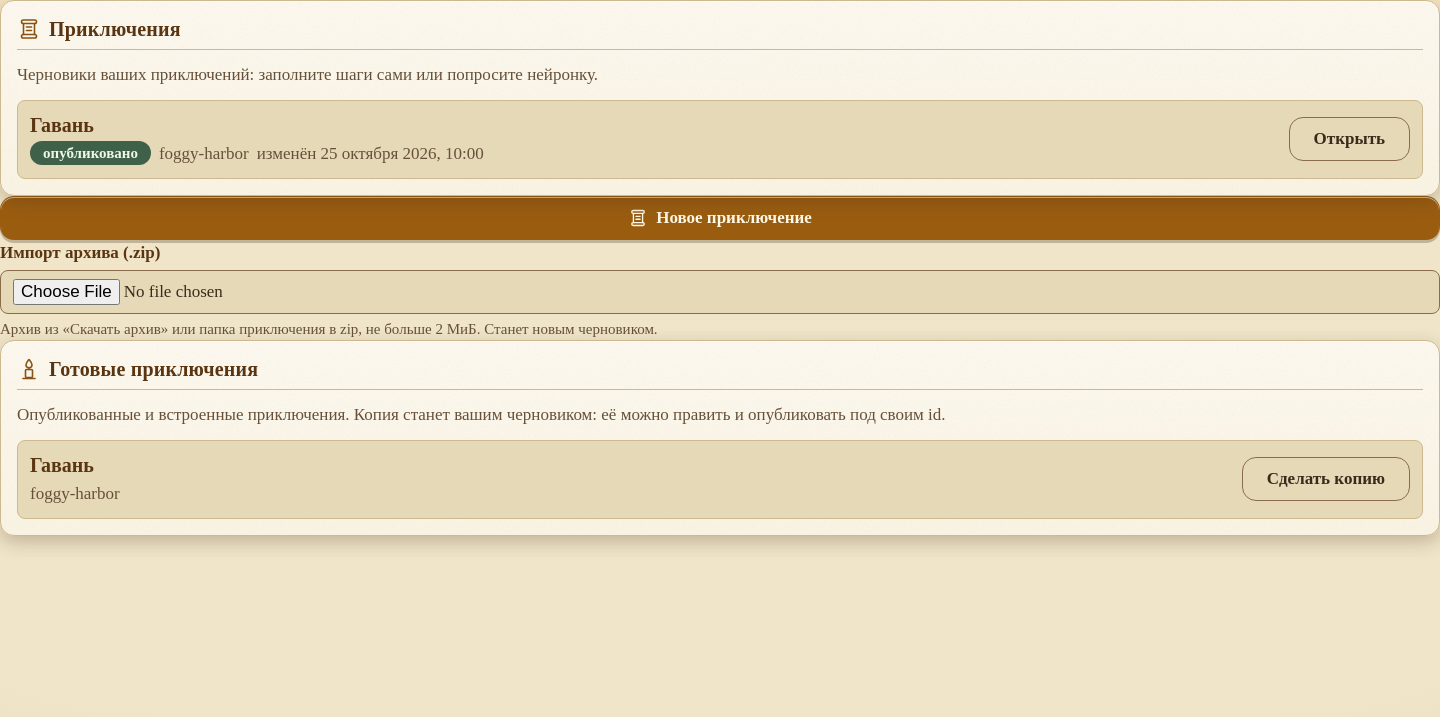
Test case: новый и существующий черновик › удалён черновик опубликованного приключения: в черновиках его нет, а в «Готовых приключениях» приключение осталось
Click the button with aria-label "Открыть: Гавань" at (1349, 139), box [1289, 117, 1410, 161]
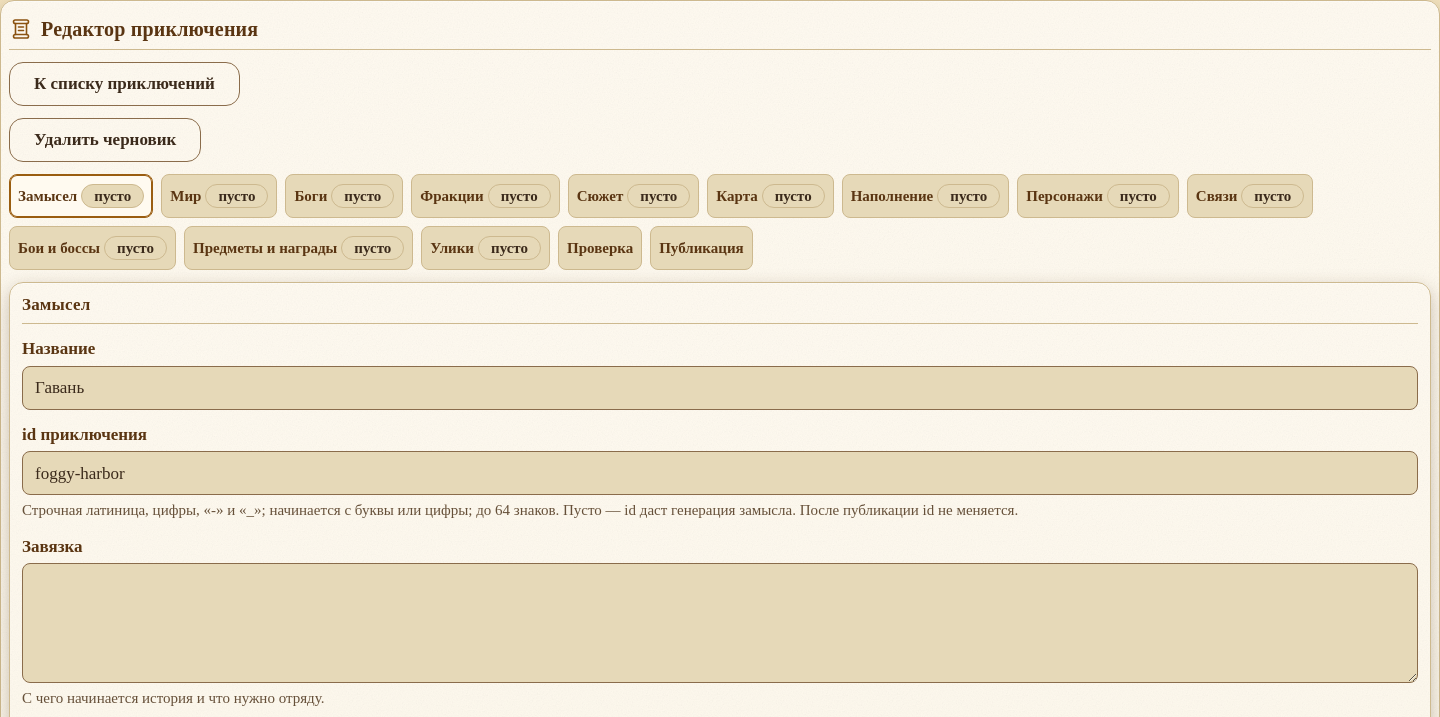
Click the button "Удалить черновик" at (105, 140), box [9, 118, 201, 162]
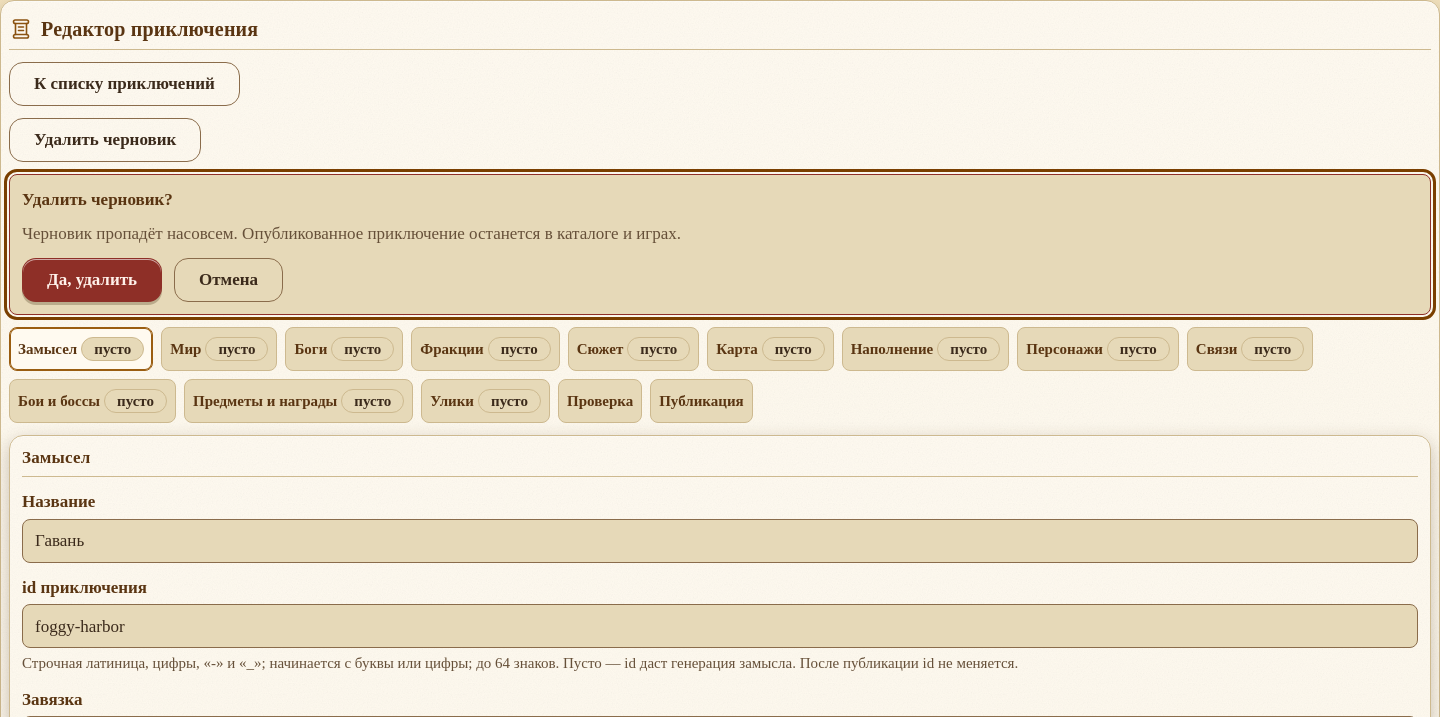
Click the button "Да, удалить" at (92, 280), box [22, 258, 162, 302]
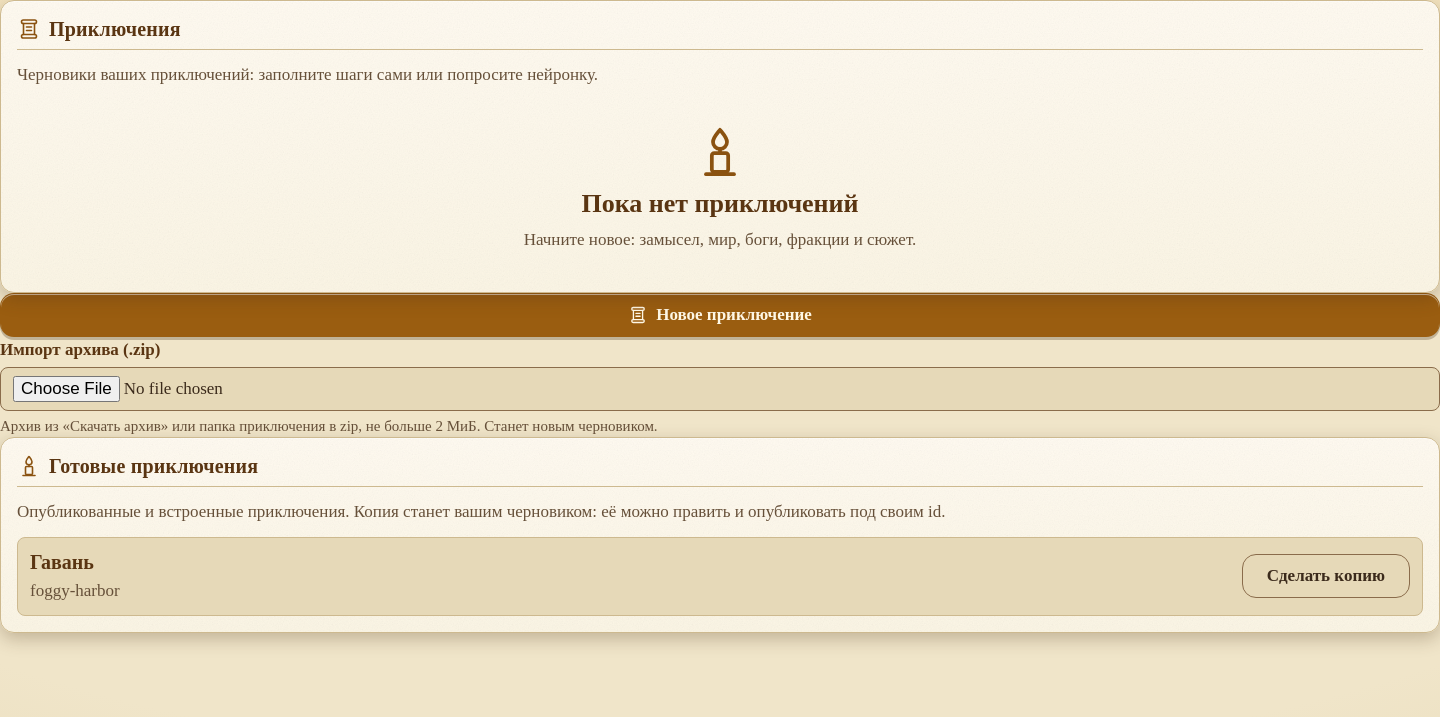
Expected: the text "Пока нет приключений" is shown, [581, 188, 858, 219]
Expected: the button with aria-label "Сделать копию: Гавань" is shown, [1242, 554, 1410, 598]
